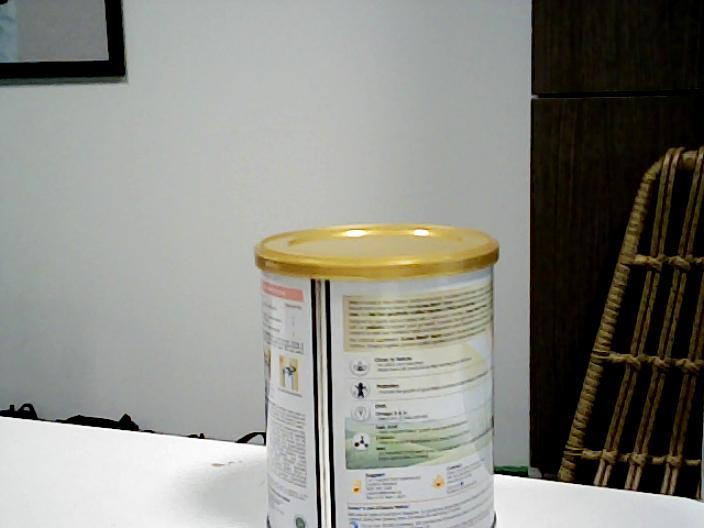MaternalMilkPowder_600-699g_NonHalal_NonHealthy: (256, 224, 503, 528)
